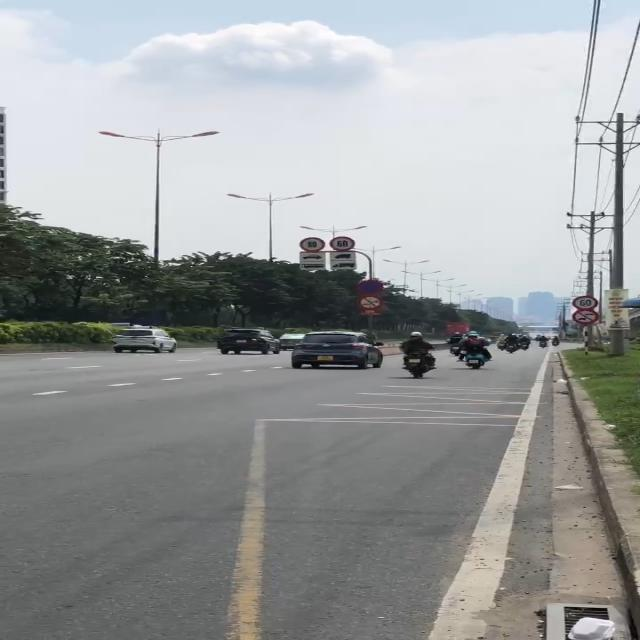Bien bao toc do toi da cho phep: (298, 235, 326, 252), (328, 235, 356, 252), (571, 295, 602, 310)
